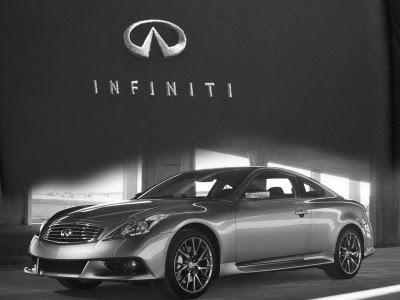car: (24, 167, 372, 300)
